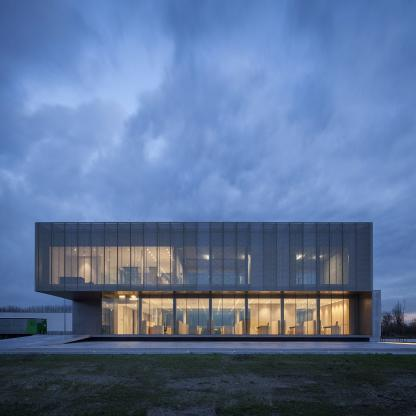Building Outline: (35, 222, 381, 342)
Decorative Shell: (35, 222, 373, 291)
Facade: (73, 222, 374, 341)
Floor Slab: (35, 285, 373, 292)
Glass Wall: (50, 247, 349, 286), (101, 295, 358, 335)
Ground Floor: (73, 292, 374, 342)
Top Floor: (35, 222, 373, 285)
